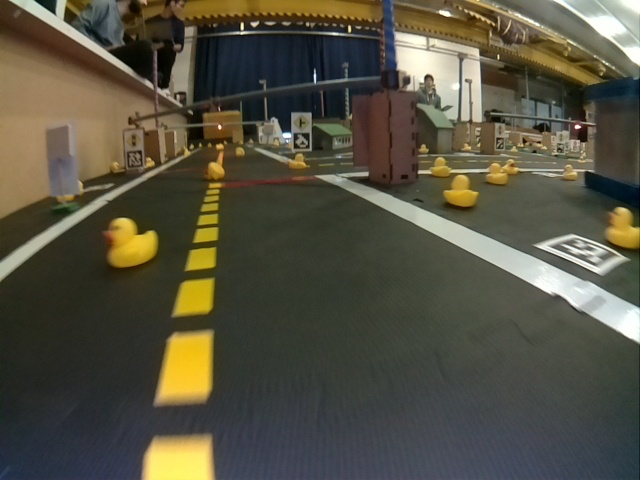Duckie: (104, 217, 157, 269), (608, 207, 638, 246), (443, 176, 478, 206), (488, 163, 508, 185), (205, 161, 225, 179), (432, 157, 449, 177), (288, 154, 306, 167), (565, 165, 578, 180), (506, 160, 518, 174), (236, 147, 245, 157), (463, 143, 471, 153), (419, 144, 427, 151)
Intersection sign: (293, 115, 310, 130)
QR code: (534, 233, 630, 276), (126, 150, 143, 168), (293, 133, 310, 148)
Signal sign: (126, 132, 141, 148), (495, 124, 505, 136)
